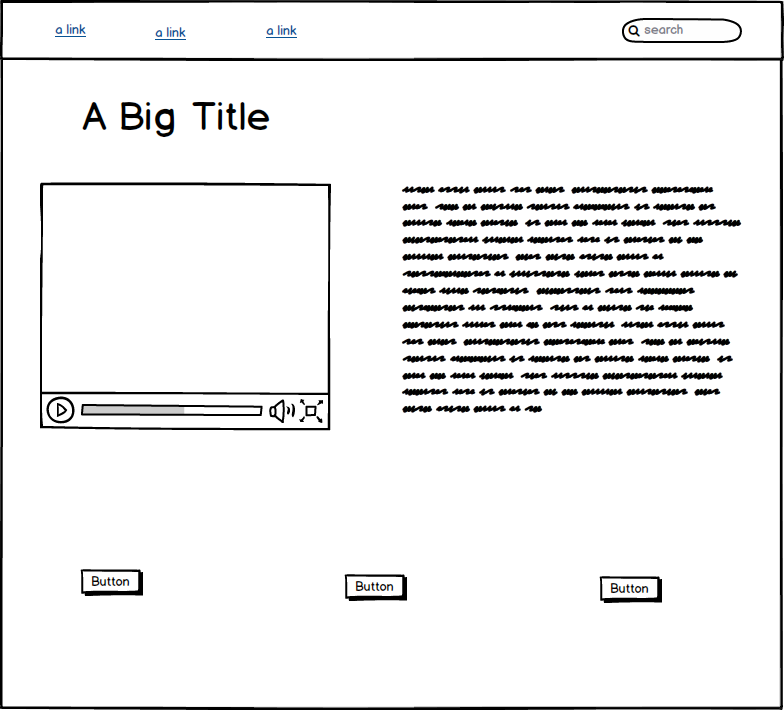button: (78, 562, 150, 600), (596, 571, 666, 609), (341, 569, 409, 603)
h1: (77, 93, 279, 142)
navlink: (150, 17, 192, 51), (256, 17, 308, 44), (47, 21, 96, 42)
p: (393, 180, 750, 418)
search: (619, 10, 750, 47)
video: (34, 179, 337, 436)
